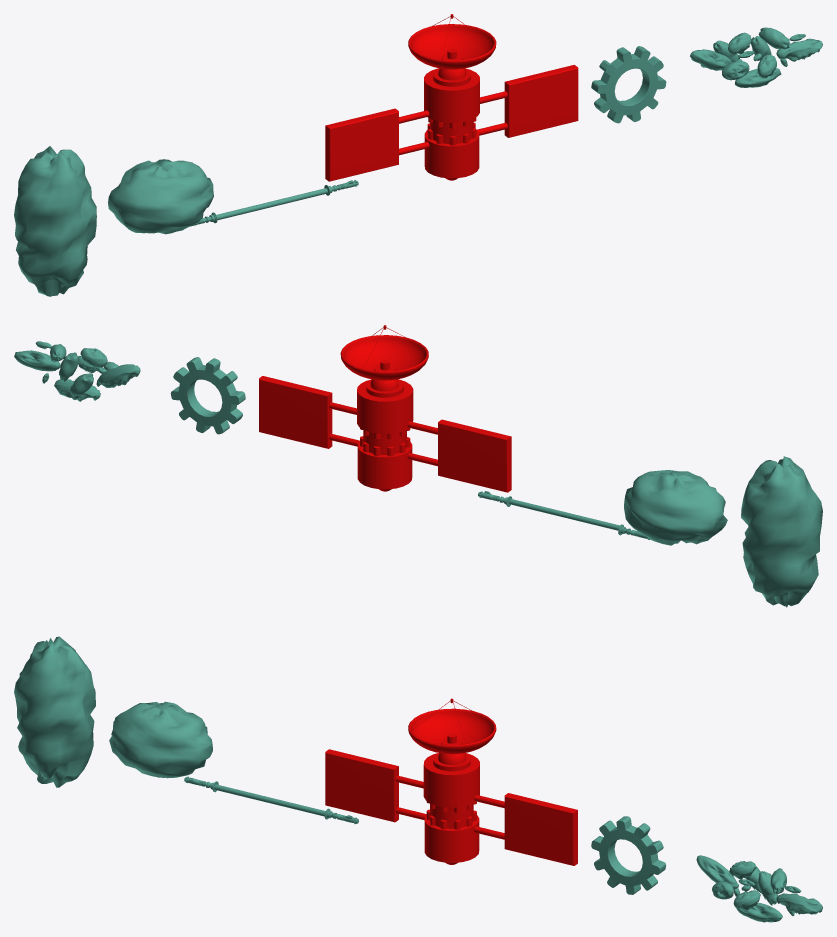
The model's file is Obsacles And Gear Power up.fbx.
3 renders of one model, top to bottom at view 1: azimuth 30°, elevation 25°; view 2: azimuth 150°, elevation 25°; view 3: azimuth 330°, elevation 25°, orthographic.
Visible parts, largest first — view 1: Satelite, MeteorTall, meteorFlat, Gear, LaserBeam, MeteorGroupMember8, MeteorGroupMember6; view 2: Satelite, MeteorTall, meteorFlat, Gear, LaserBeam, MeteorGroupMember6, MeteorGroupMember8; view 3: Satelite, MeteorTall, meteorFlat, Gear, LaserBeam, MeteorGroupMember8, MeteorGroupMember6, MeteorGroupMember2.
Boxes of the visible parts, box(x1,y1,x2,y2) form: Satelite: box(325, 14, 578, 181); MeteorTall: box(14, 146, 96, 296); meteorFlat: box(108, 159, 213, 234); Gear: box(591, 46, 666, 123); LaserBeam: box(216, 188, 327, 220); MeteorGroupMember8: box(776, 38, 822, 61); MeteorGroupMember6: box(690, 49, 731, 70); Satelite: box(259, 325, 511, 492); MeteorTall: box(741, 456, 822, 607); meteorFlat: box(624, 470, 727, 545); Gear: box(170, 357, 245, 434); LaserBeam: box(509, 499, 619, 530); MeteorGroupMember6: box(98, 364, 140, 387); MeteorGroupMember8: box(14, 350, 60, 371); Satelite: box(325, 698, 577, 865); MeteorTall: box(14, 636, 95, 787); meteorFlat: box(109, 701, 212, 778); Gear: box(591, 816, 666, 894); LaserBeam: box(214, 784, 325, 816); MeteorGroupMember8: box(776, 893, 822, 914); MeteorGroupMember6: box(696, 855, 738, 887); MeteorGroupMember2: box(736, 902, 782, 922).
Size of the model in its own units: 952 by 205 by 90.81.
